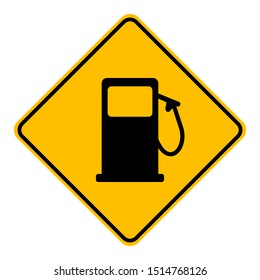fuel-station: (28, 22, 232, 226)
